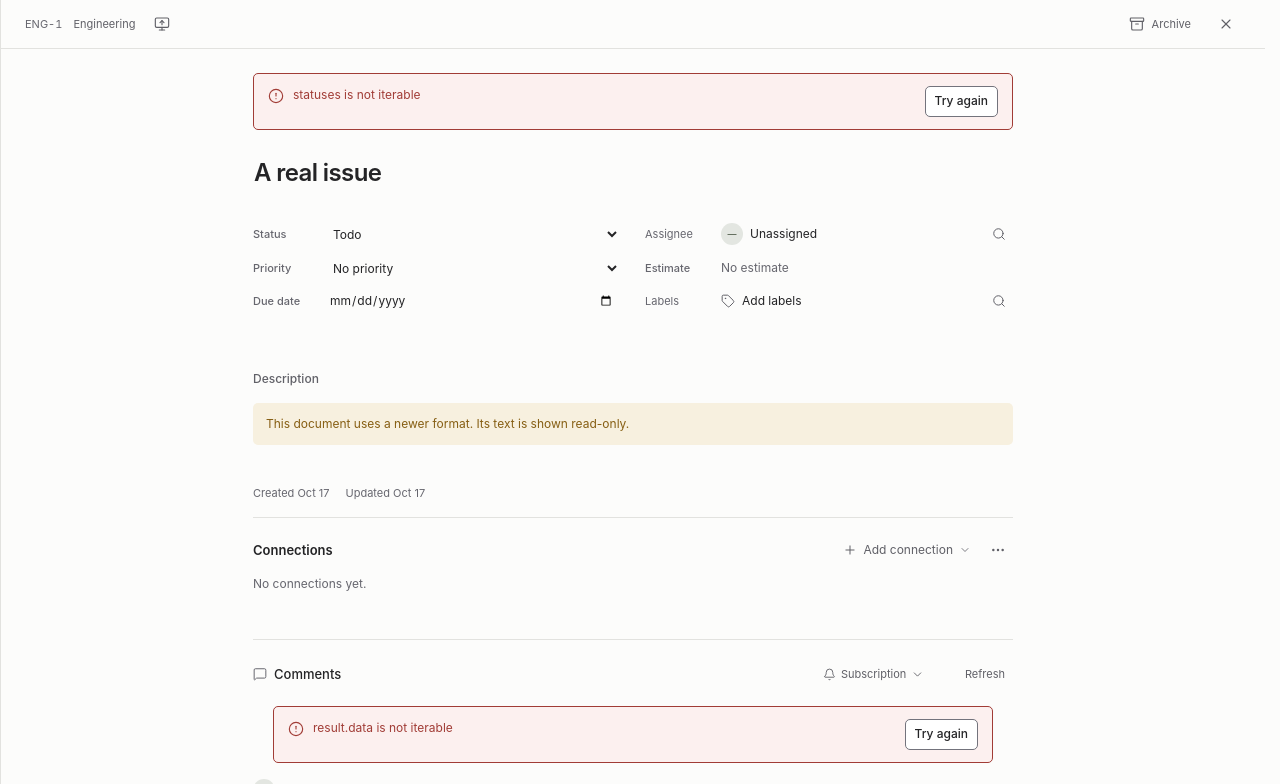
Test case: archive and restore › loads a newer version on an archive conflict without silently retrying
Click the button "Archive": click(1160, 24) [1121, 8, 1199, 40]
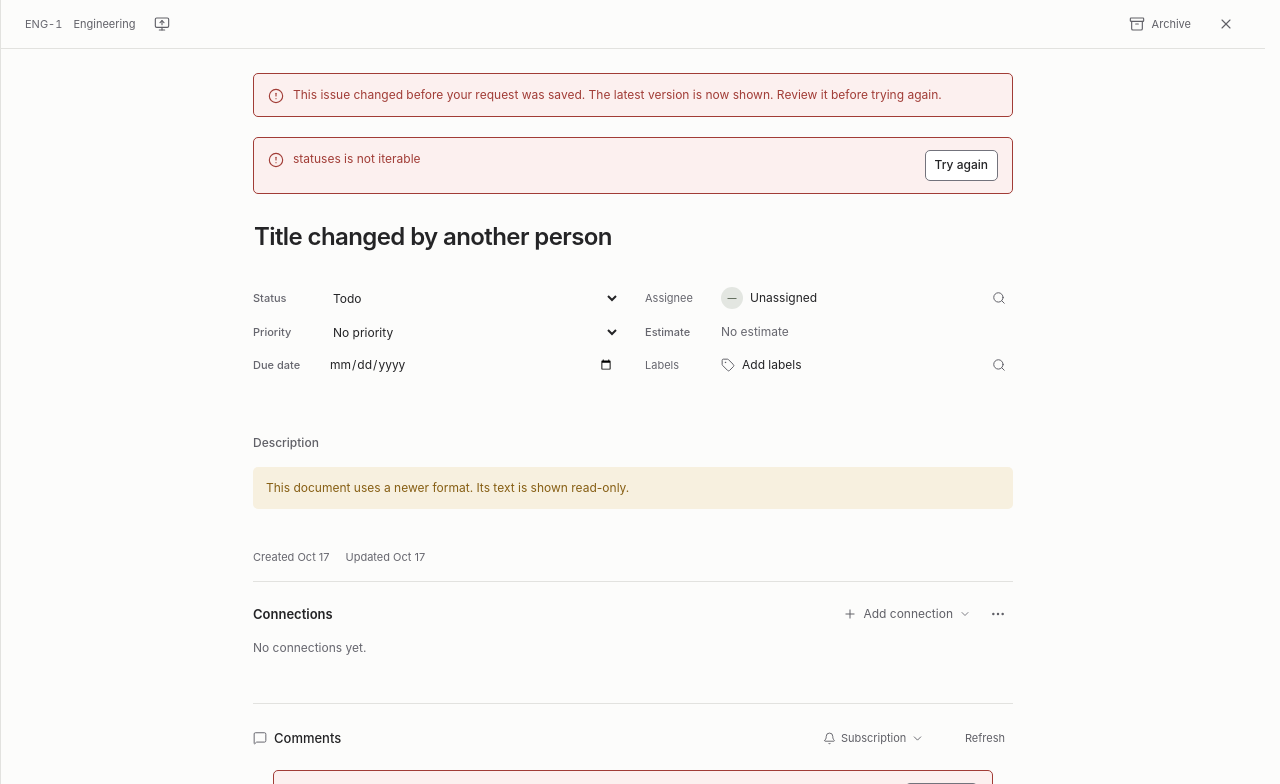
Now the text box with id "issue-title" holds "Title changed by another person", box [245, 214, 1021, 260]
Now the text "Review it before trying again." is shown, box [293, 87, 942, 102]
